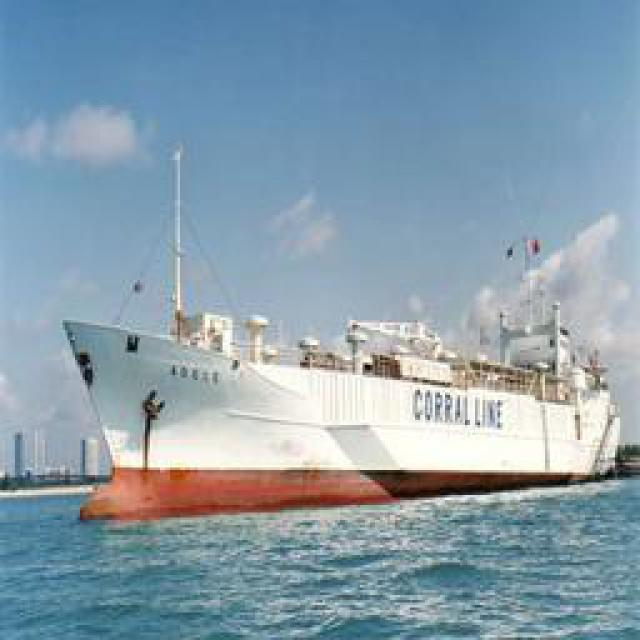Ship: (74, 171, 617, 516)
